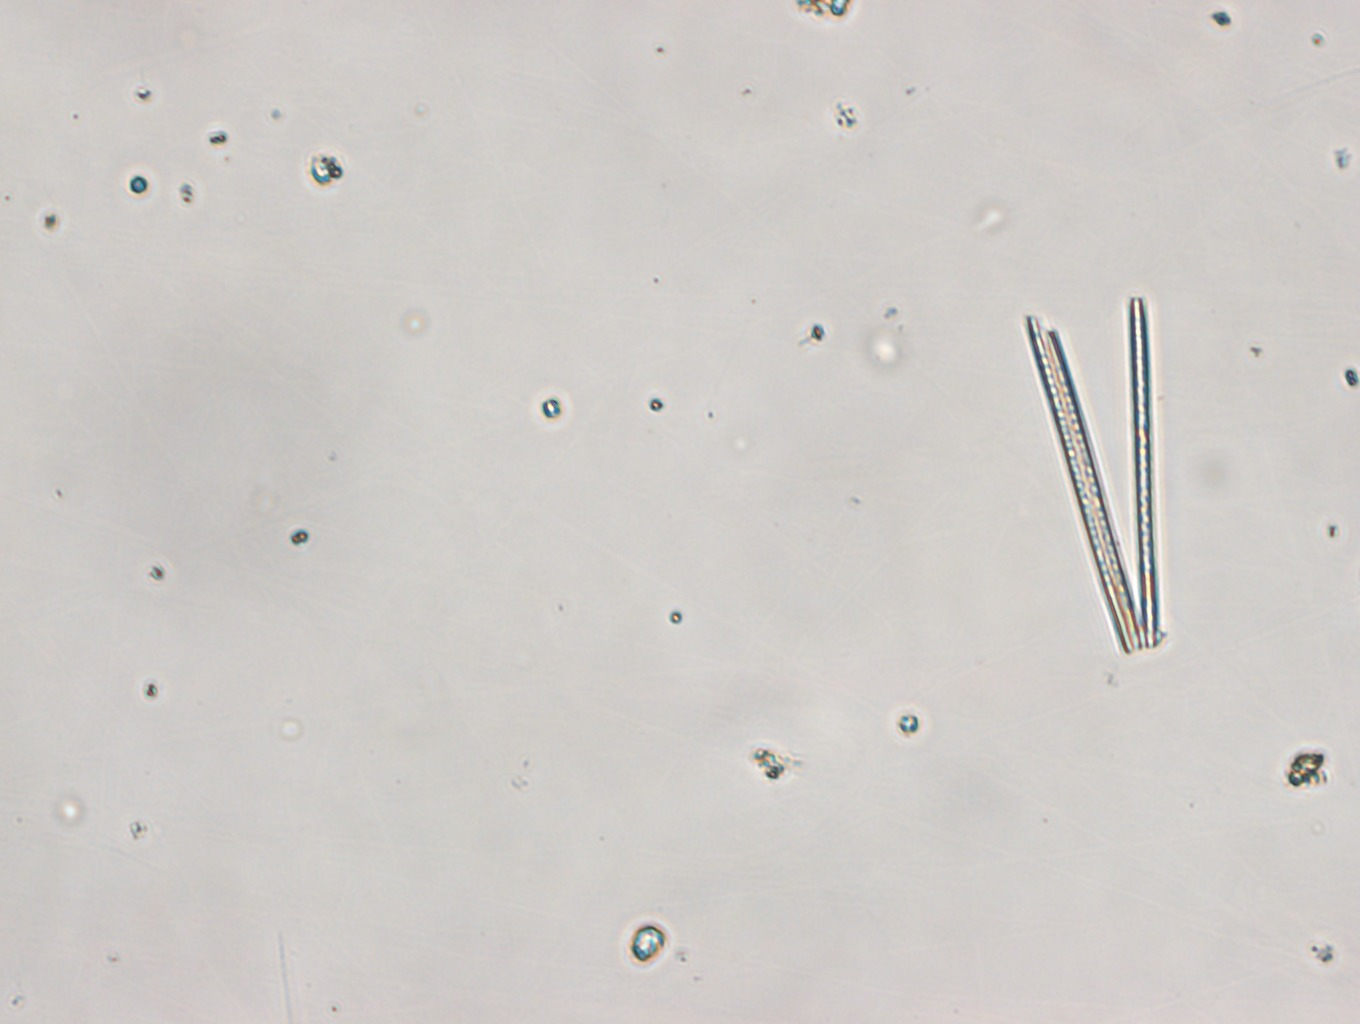thalassionema frauenfeldii: (1023, 295, 1166, 653)
